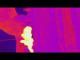Foc: (7, 25, 44, 52)
